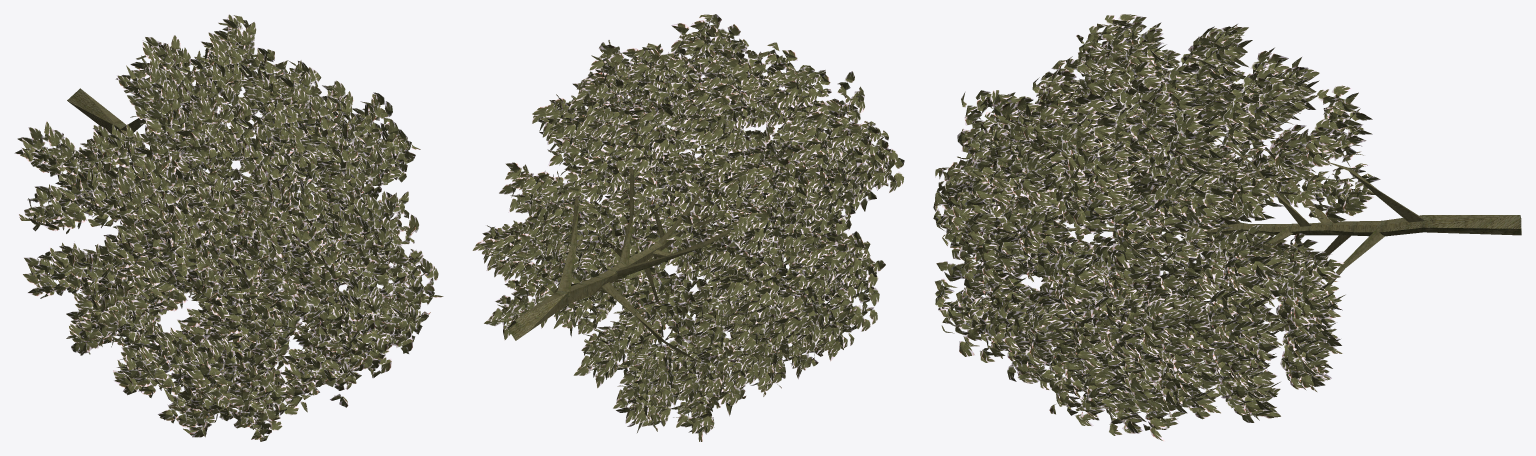
File: Tree5.dae
The picture shows the model from 3 angles, left to right: view 1: azimuth 30°, elevation 25°; view 2: azimuth 150°, elevation 25°; view 3: azimuth 270°, elevation 25°; orthographic projection. The views are drawn at different scales.
Visible parts, largest first — view 1: node; view 2: node; view 3: node.
Boxes of the visible parts, x1,y1,x2,y2 form: node: (14, 14, 443, 441); node: (472, 14, 904, 441); node: (933, 14, 1521, 441).
Size of the model in its own units: 3.46 by 3.42 by 4.74.
2 materials, 2 textured.
